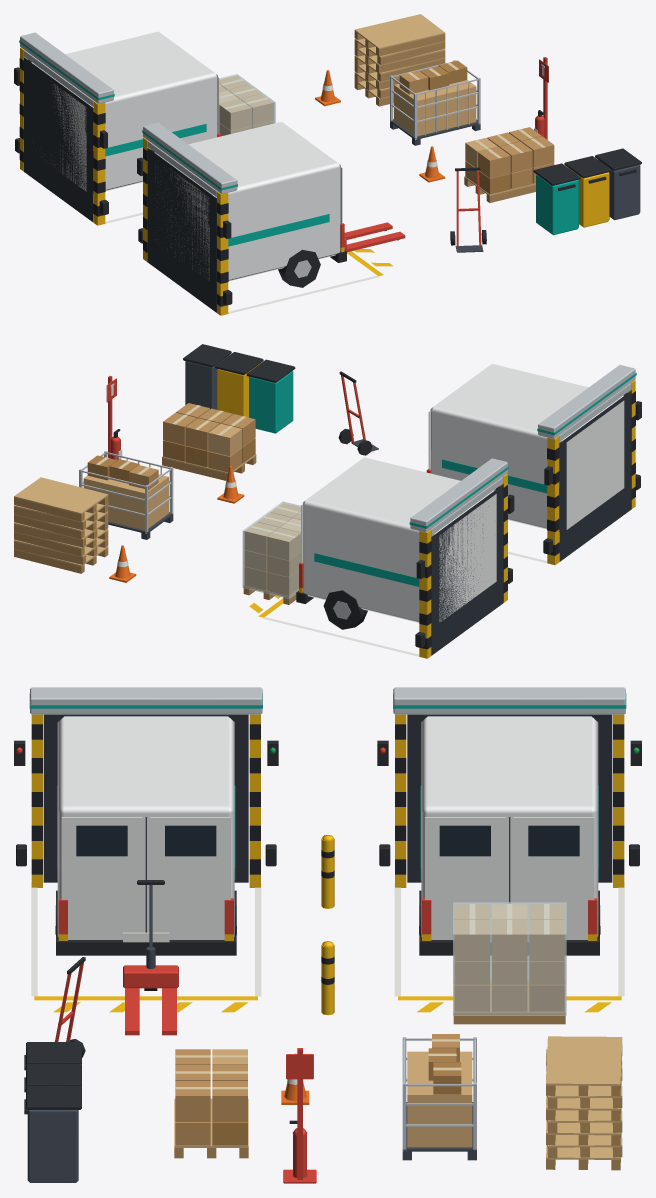
Rendered from einrichtung_rampe.glb.
The picture shows the model from 3 angles, top to bottom: view 1: azimuth 30°, elevation 25°; view 2: azimuth 150°, elevation 25°; view 3: azimuth 270°, elevation 25°; orthographic projection. The views are drawn at different scales.
Parts seen in each view (by area): view 1: einrichtung_rampe; view 2: einrichtung_rampe; view 3: einrichtung_rampe.
Part boxes in pixels (<box>): einrichtung_rampe: <box>14,14,641,315</box>; einrichtung_rampe: <box>14,344,641,658</box>; einrichtung_rampe: <box>14,687,641,1183</box>.
Bounding box in the file's own units: 7.68 × 2.32 × 6.74.
